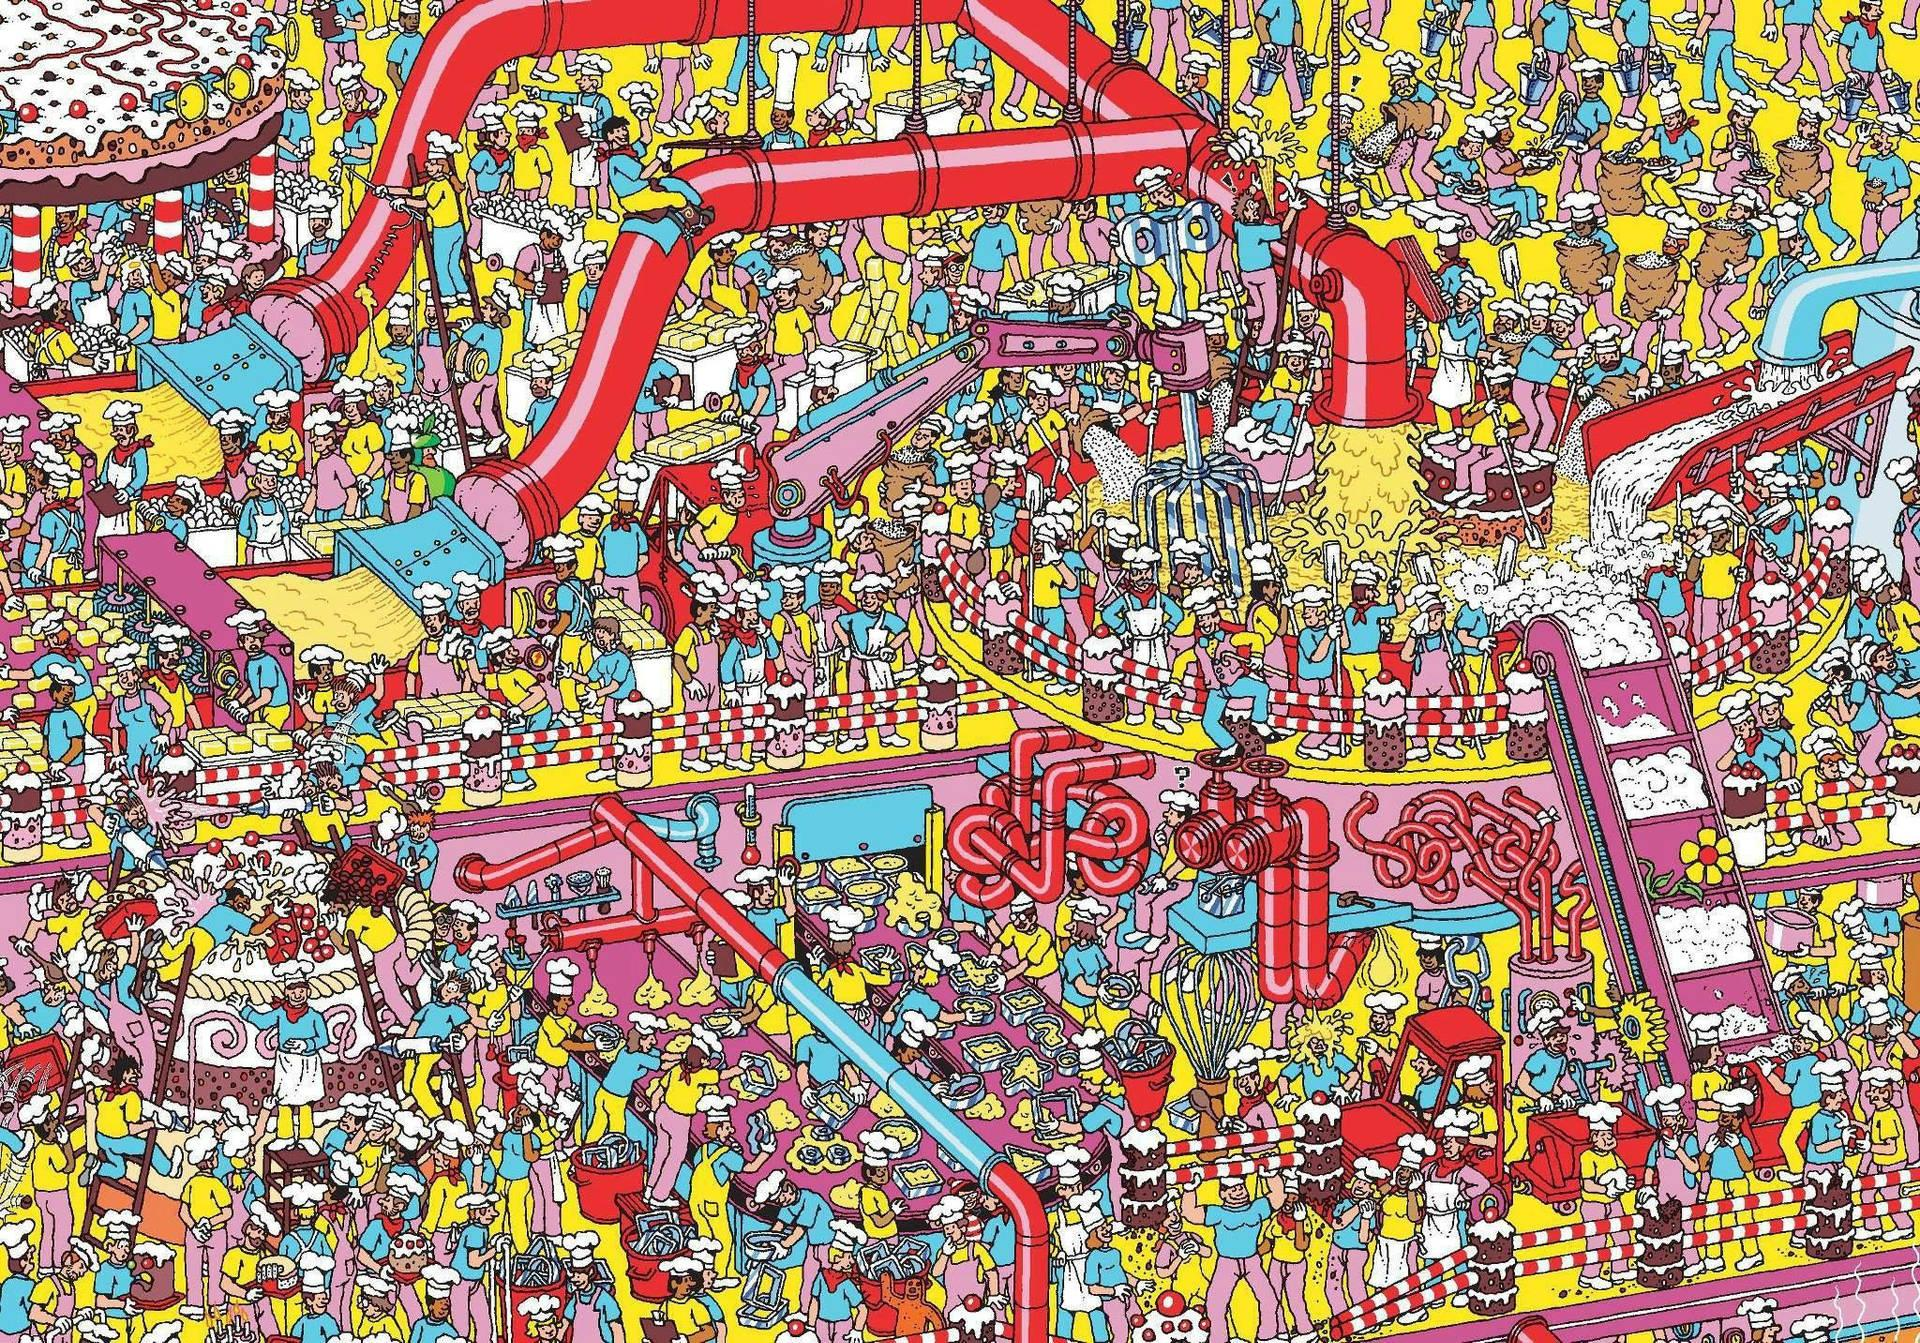waldos: (935, 246, 970, 318)
